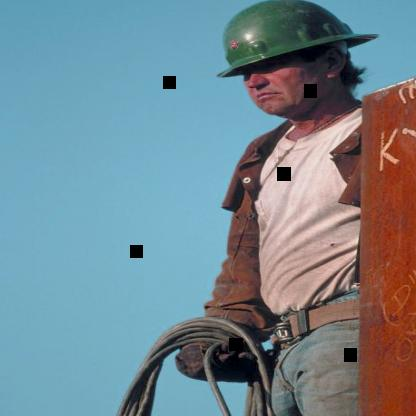helmet: (187, 0, 379, 128)
